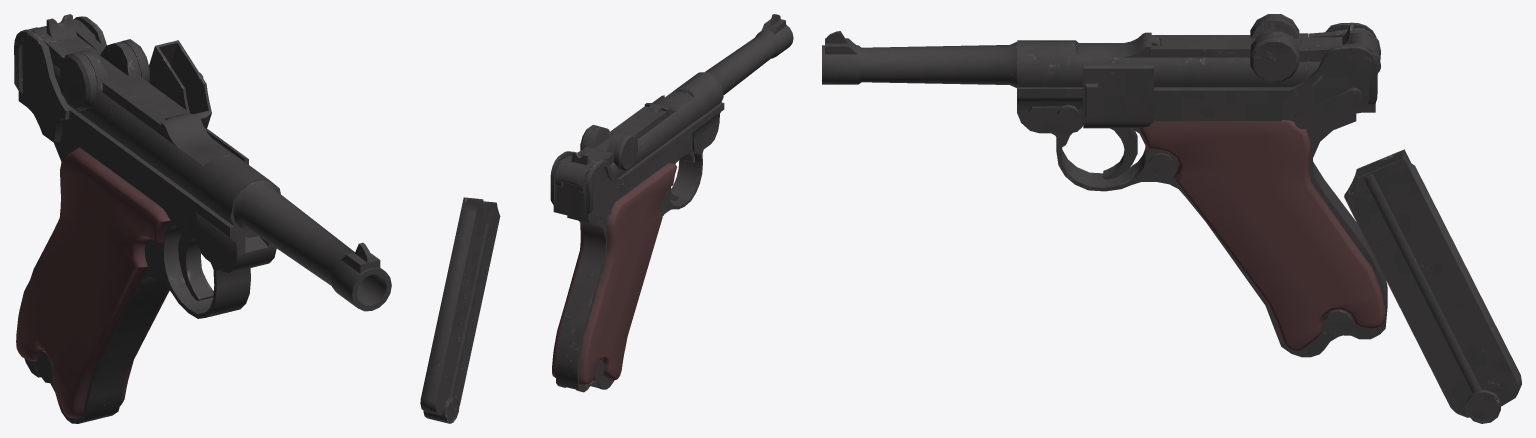
Rendered from ge_luger.gltf.
3 renders of one model, left to right at view 1: azimuth 30°, elevation 25°; view 2: azimuth 150°, elevation 25°; view 3: azimuth 270°, elevation 25°, orthographic. The views are drawn at different scales.
Visible parts, largest first — view 1: Body, Barrel, Slide, Part3, Clip, Part2, Part1, Trigger; view 2: Body, Clip, Slide, Barrel, Part3, Part2, Part1; view 3: Body, Clip, Barrel, Slide, Part3, Part2, Part1, Trigger.
Part boxes in pixels (x1=…): Body: x1=14, y1=16, x2=276, y2=423; Barrel: x1=233, y1=180, x2=391, y2=311; Slide: x1=52, y1=63, x2=280, y2=237; Part3: x1=39, y1=14, x2=149, y2=110; Clip: x1=149, y1=40, x2=211, y2=128; Part2: x1=96, y1=55, x2=190, y2=135; Part1: x1=160, y1=114, x2=233, y2=165; Trigger: x1=178, y1=230, x2=213, y2=300; Body: x1=550, y1=95, x2=724, y2=392; Clip: x1=420, y1=197, x2=500, y2=423; Slide: x1=610, y1=72, x2=723, y2=177; Barrel: x1=705, y1=14, x2=793, y2=95; Part3: x1=561, y1=125, x2=637, y2=185; Part2: x1=594, y1=106, x2=667, y2=151; Part1: x1=644, y1=92, x2=693, y2=116; Body: x1=1017, y1=23, x2=1387, y2=357; Clip: x1=1344, y1=149, x2=1521, y2=423; Barrel: x1=822, y1=31, x2=1017, y2=87; Slide: x1=1017, y1=40, x2=1320, y2=87; Part3: x1=1250, y1=14, x2=1380, y2=82; Part2: x1=1149, y1=35, x2=1301, y2=57; Part1: x1=1077, y1=32, x2=1160, y2=57; Trigger: x1=1061, y1=128, x2=1137, y2=179.
Size of the model in its own units: 0.0772 by 0.1546 by 0.2938.
Materials: 1 (1 with a texture image).
